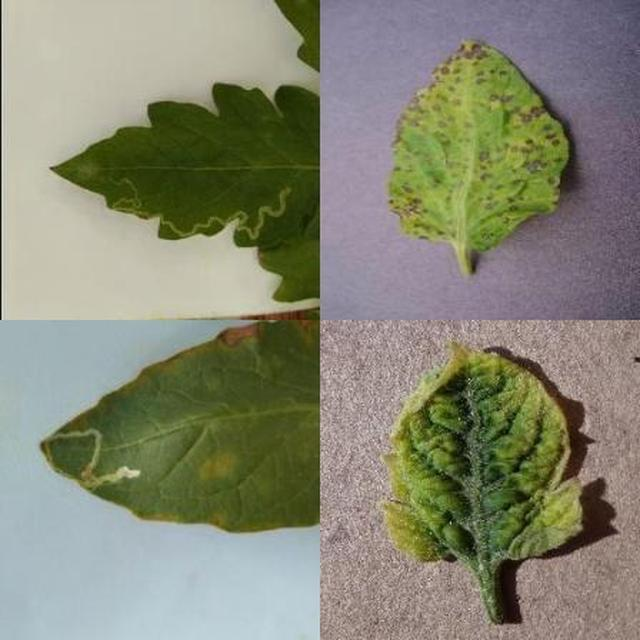Leaf Miner: (253, 209, 640, 640)
